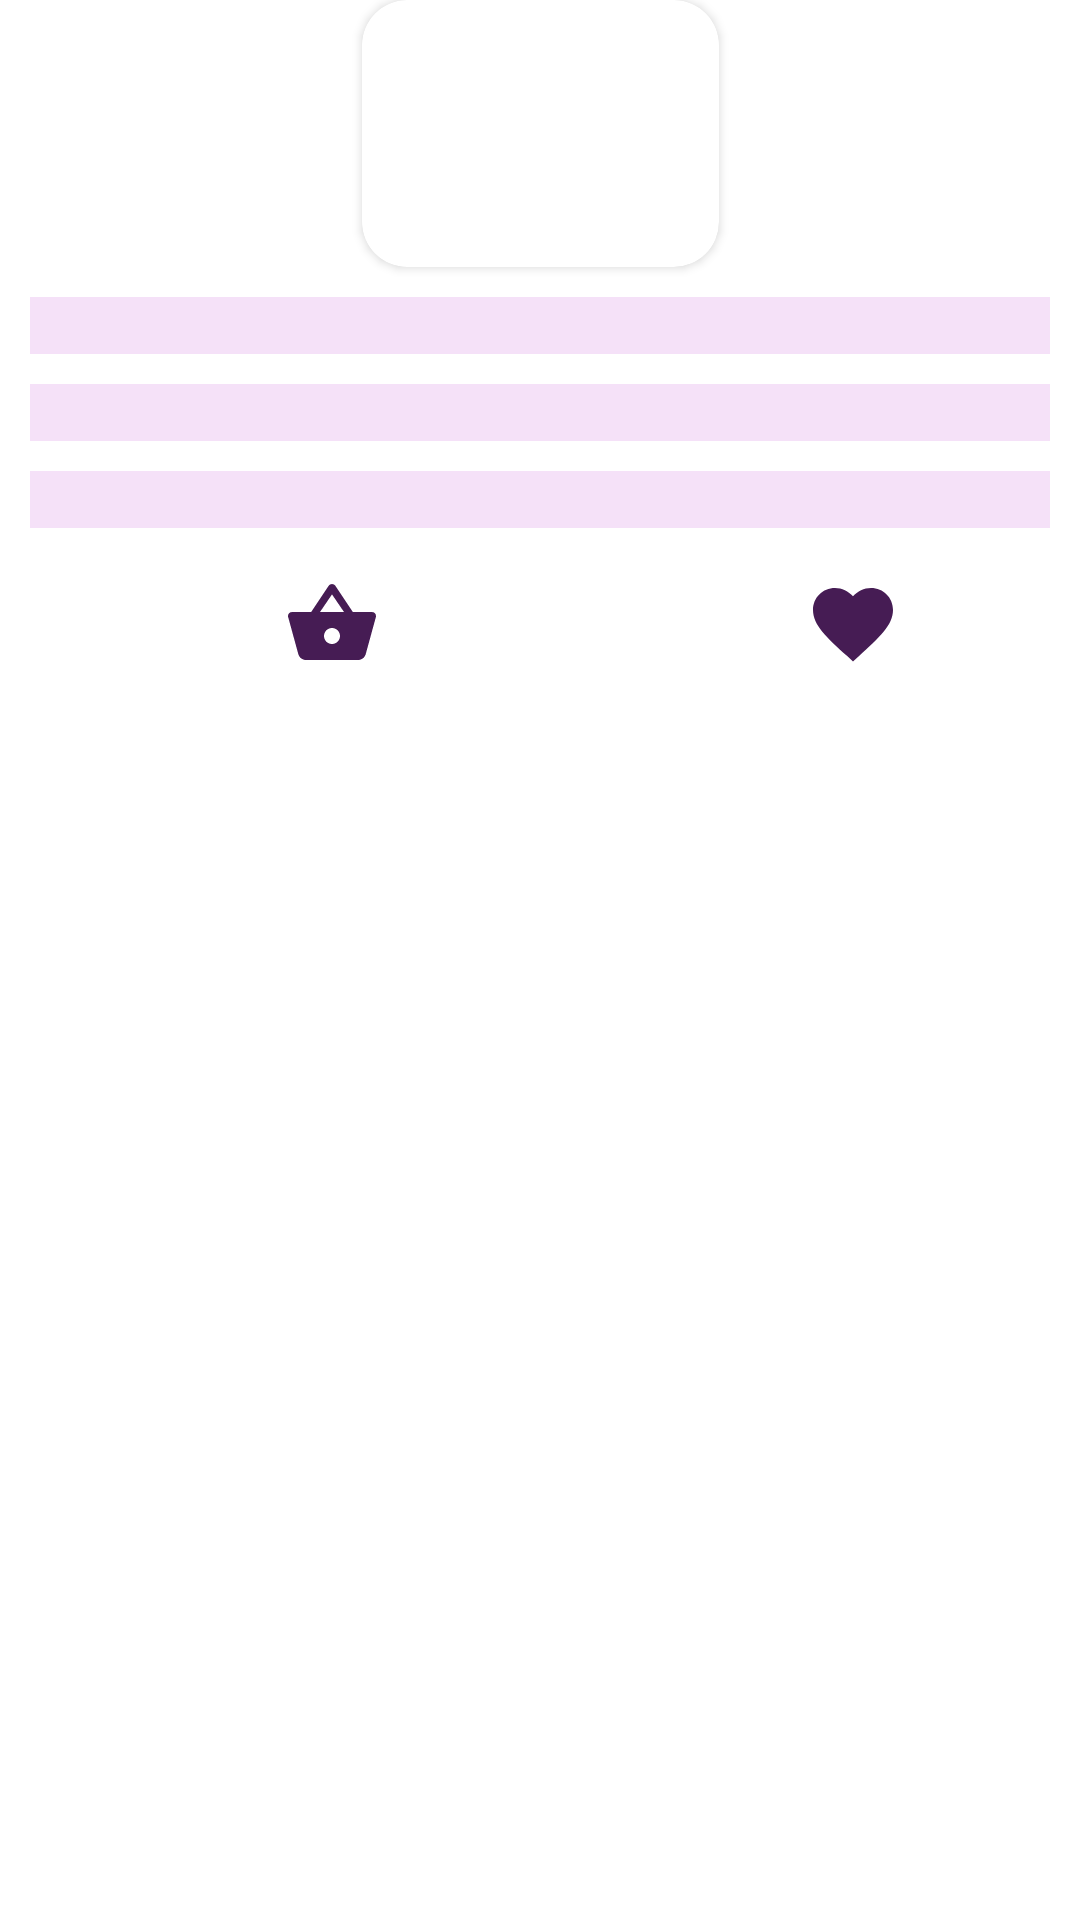

Icon bounding boxes for this 1080 x 1920 phone screenshot, format box(x1, y1, x2, y2):
favorite: box(813, 588, 893, 662)
shopping basket: box(288, 584, 376, 660)
